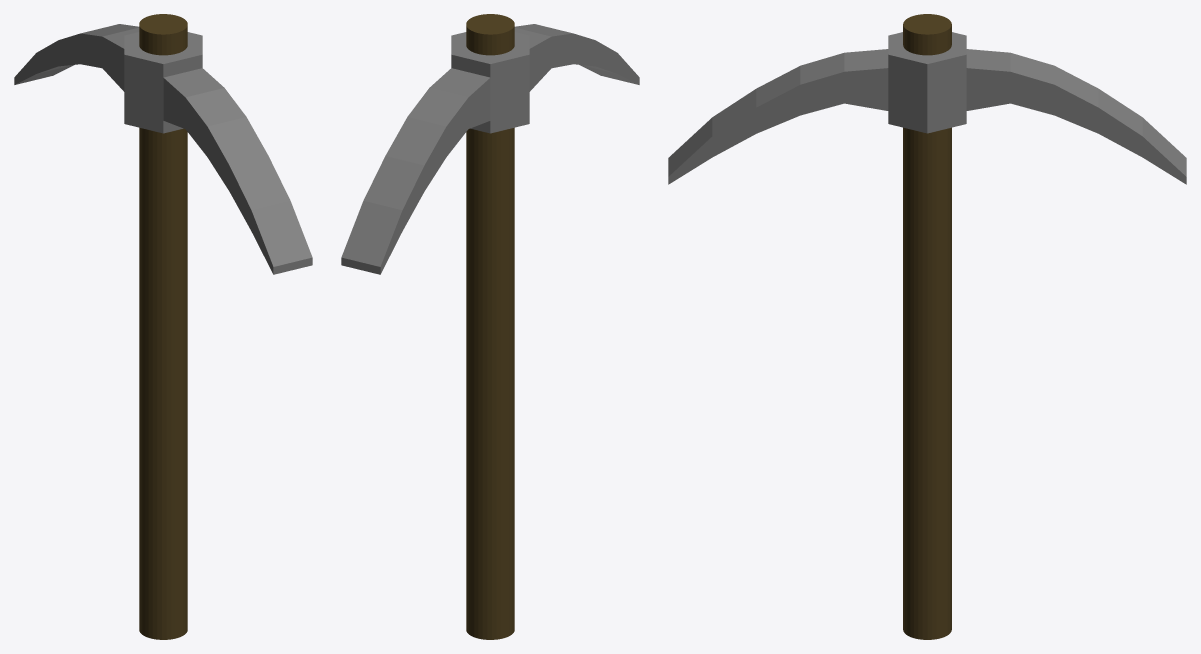
The model's file is Pickaxe.dae.
The picture shows the model from 3 angles, left to right: view 1: azimuth 30°, elevation 25°; view 2: azimuth 150°, elevation 25°; view 3: azimuth 270°, elevation 25°; orthographic projection.
Visible parts, largest first — view 1: Cylinder, Circle; view 2: Cylinder, Circle; view 3: Circle, Cylinder.
Boxes of the visible parts, left/top/right/bottom form: Cylinder: left=139, top=14, right=187, bottom=639; Circle: left=14, top=24, right=312, bottom=274; Cylinder: left=466, top=14, right=514, bottom=639; Circle: left=341, top=24, right=639, bottom=274; Circle: left=668, top=32, right=1186, bottom=184; Cylinder: left=903, top=14, right=951, bottom=639.
Bounding box in the file's own units: 0.2705 × 1.55 × 2.
